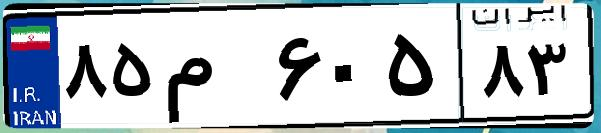0: (330, 28, 385, 110)
3: (525, 38, 570, 115)
5: (385, 28, 445, 110), (110, 28, 158, 98)
6: (270, 28, 330, 110)
8: (57, 26, 110, 100), (475, 38, 525, 113)
م: (158, 20, 270, 120)
